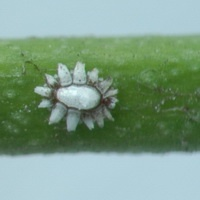insect: (34, 61, 117, 131)
